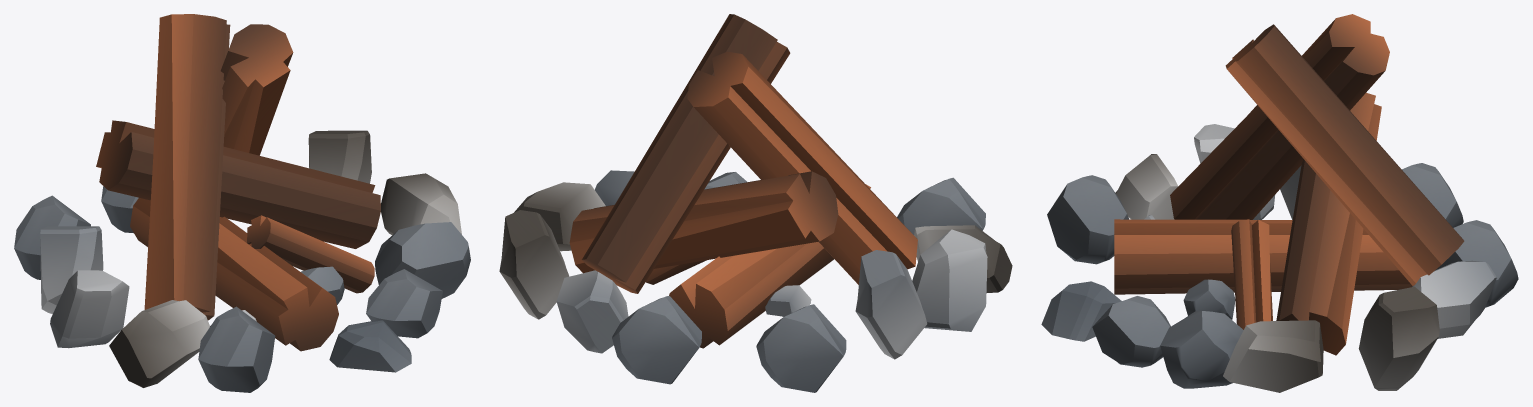
Rendered from fogata1.fbx.
The picture shows the model from 3 angles, left to right: view 1: azimuth 30°, elevation 25°; view 2: azimuth 150°, elevation 25°; view 3: azimuth 270°, elevation 25°; orthographic projection. The views are drawn at different scales.
Visible parts, largest first — view 1: fogata1; view 2: fogata1; view 3: fogata1.
Part boxes in pixels (bbox=[...]): fogata1: bbox=[14, 14, 470, 392]; fogata1: bbox=[499, 14, 1012, 392]; fogata1: bbox=[1041, 14, 1518, 392].
Size of the model in its own units: 517 by 338 by 497.
